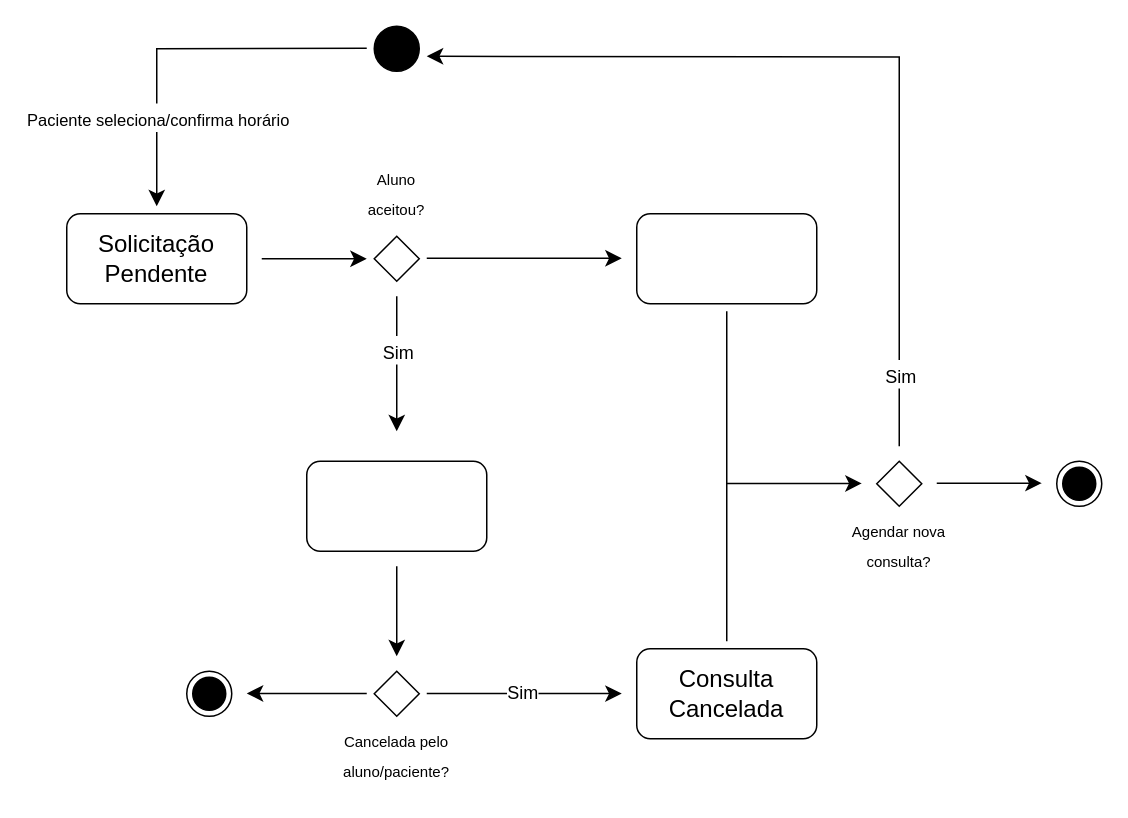
The diagram is 1128 pixels wide and 818 high, and some of its shapes have lost their labels. Each missing label, with the centre of its shape:
"Consulta Agendada" goes at (x=396, y=505).
"Solicitação Cancelada" goes at (x=726, y=258).
